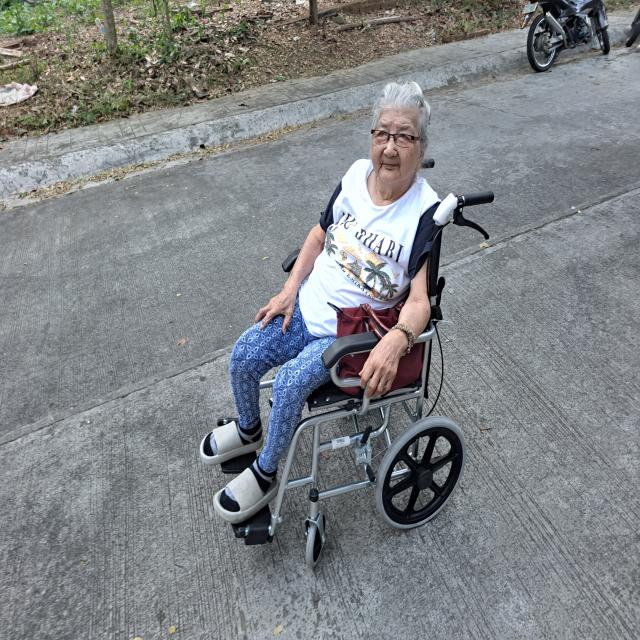wheelchairs: (212, 152, 502, 590)
